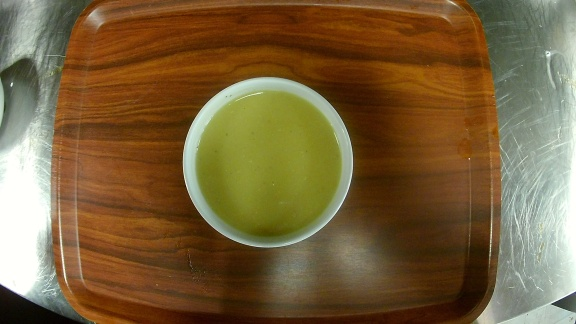mercimek: (180, 74, 356, 249)
